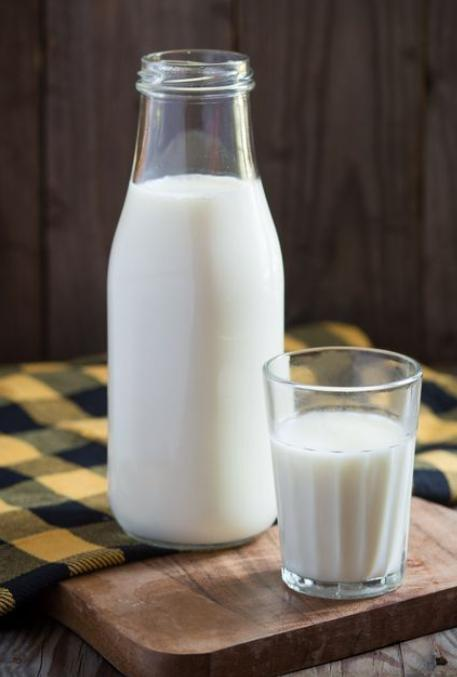produk_susu: (140, 80, 255, 528), (277, 359, 411, 582)
